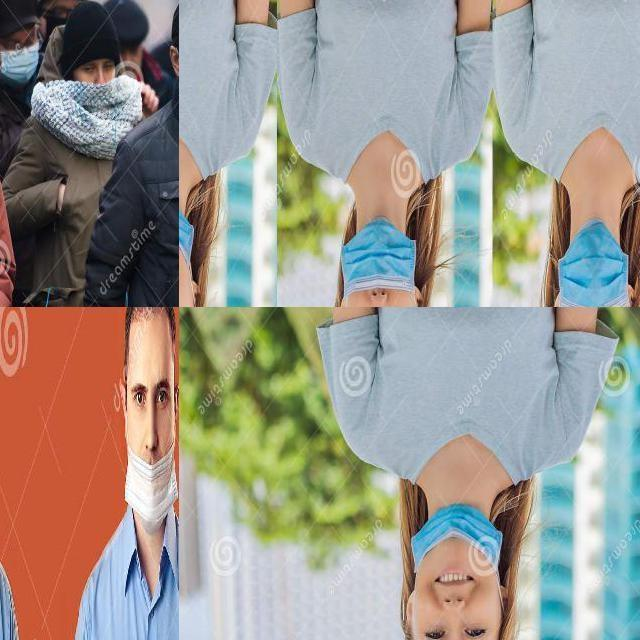hairnet: (407, 518, 500, 603), (123, 415, 177, 524), (349, 230, 414, 306)
